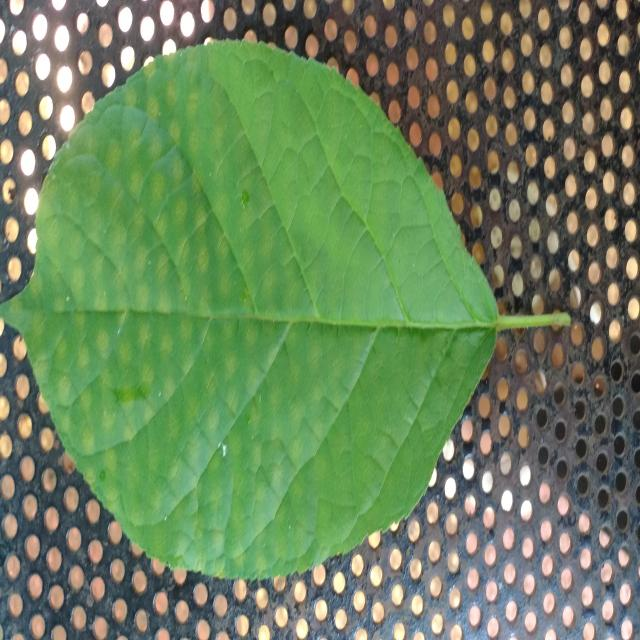padri: (0, 42, 499, 578)
